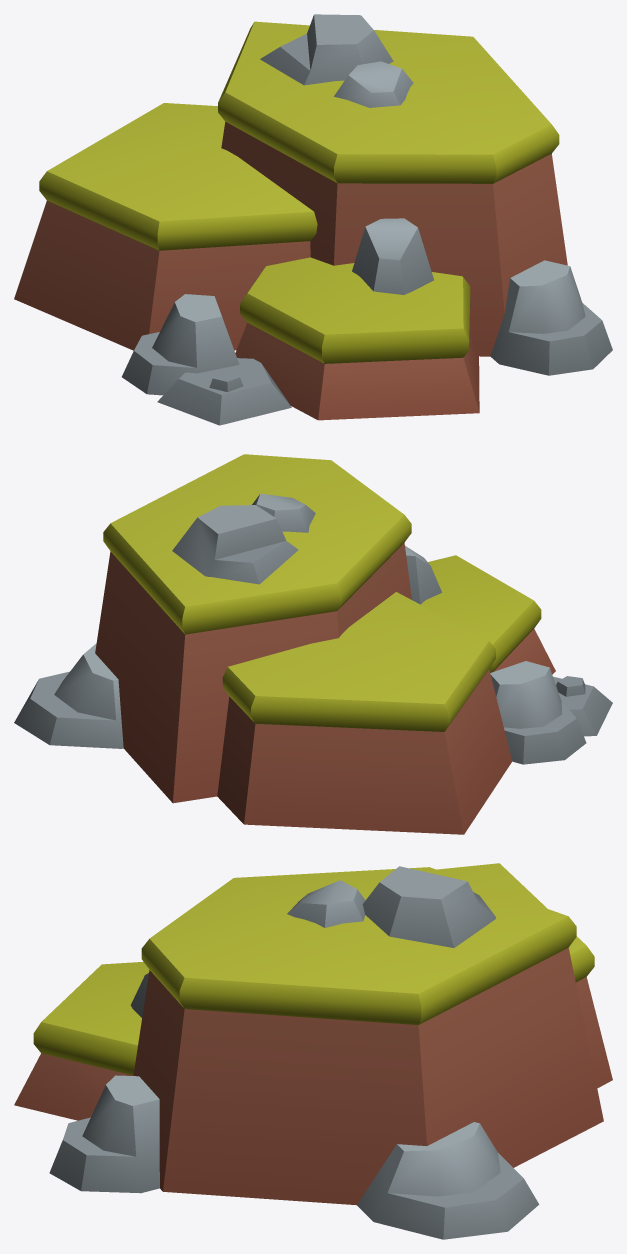
The model's file is hills_A.glb.
The picture shows the model from 3 angles, top to bottom: view 1: azimuth 30°, elevation 25°; view 2: azimuth 150°, elevation 25°; view 3: azimuth 270°, elevation 25°; orthographic projection. The views are drawn at different scales.
Visible parts, largest first — view 1: hills_A; view 2: hills_A; view 3: hills_A.
Part boxes in pixels (left/top/right/bottom): hills_A: left=14, top=14, right=612, bottom=425; hills_A: left=14, top=454, right=612, bottom=834; hills_A: left=14, top=863, right=612, bottom=1239.
Size of the model in its own units: 1.76 by 0.7942 by 1.74.
Materials: 1 (1 with a texture image).
